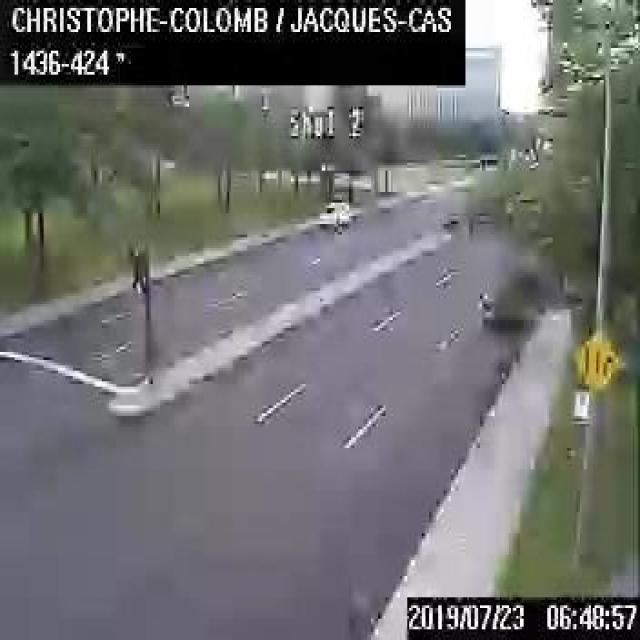vehicle: (314, 194, 351, 227)
